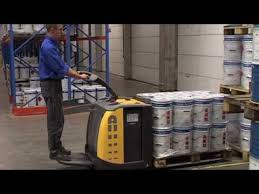Pallet Jack: (70, 68, 230, 171)
